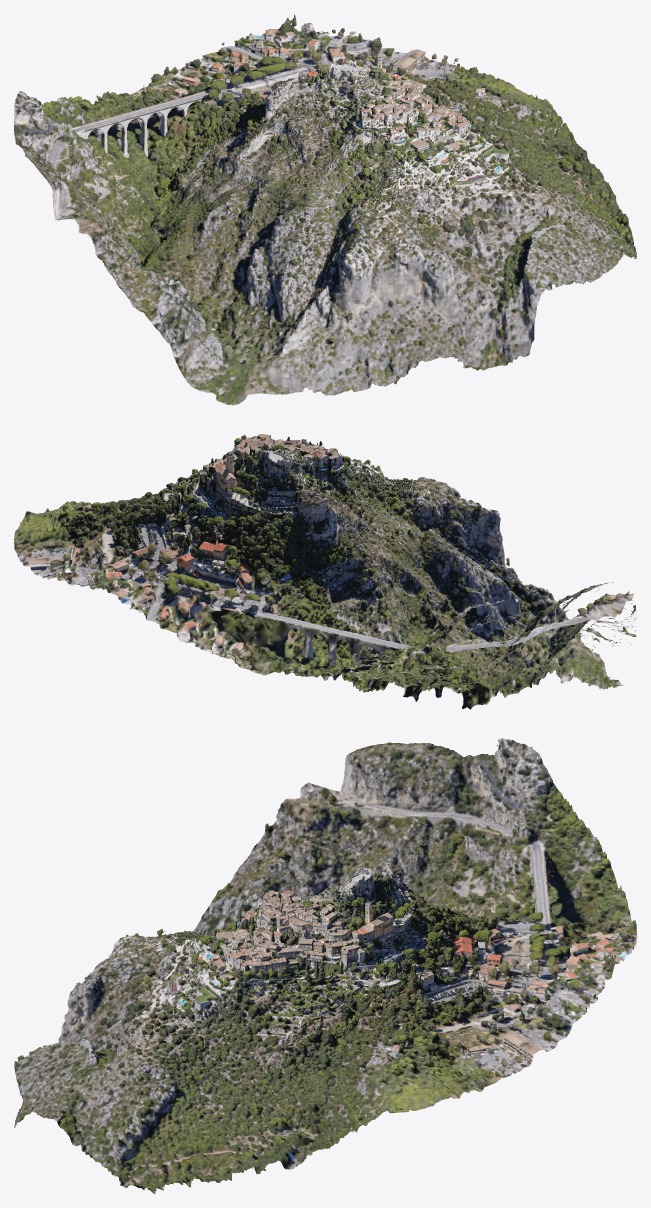
The picture shows the model from 3 angles, top to bottom: view 1: azimuth 30°, elevation 25°; view 2: azimuth 150°, elevation 25°; view 3: azimuth 270°, elevation 25°; orthographic projection. The views are drawn at different scales.
Visible parts, largest first — view 1: Chunk0.002, Chunk0, Chunk0.001; view 2: Chunk0.002, Chunk0.001, Chunk0; view 3: Chunk0.002, Chunk0.001, Chunk0.
Part boxes in pixels (x1,y1,x2,y2): Chunk0.002: [14, 14, 636, 405]; Chunk0: [248, 95, 526, 243]; Chunk0.001: [236, 57, 491, 147]; Chunk0.002: [14, 457, 636, 709]; Chunk0.001: [128, 440, 354, 598]; Chunk0: [213, 434, 454, 560]; Chunk0.002: [14, 738, 636, 1193]; Chunk0.001: [256, 863, 437, 1025]; Chunk0: [172, 888, 315, 1033].
Size of what is drawn, in the model's own units: 63569 by 26290 by 55343.
3 materials, 3 textured.
